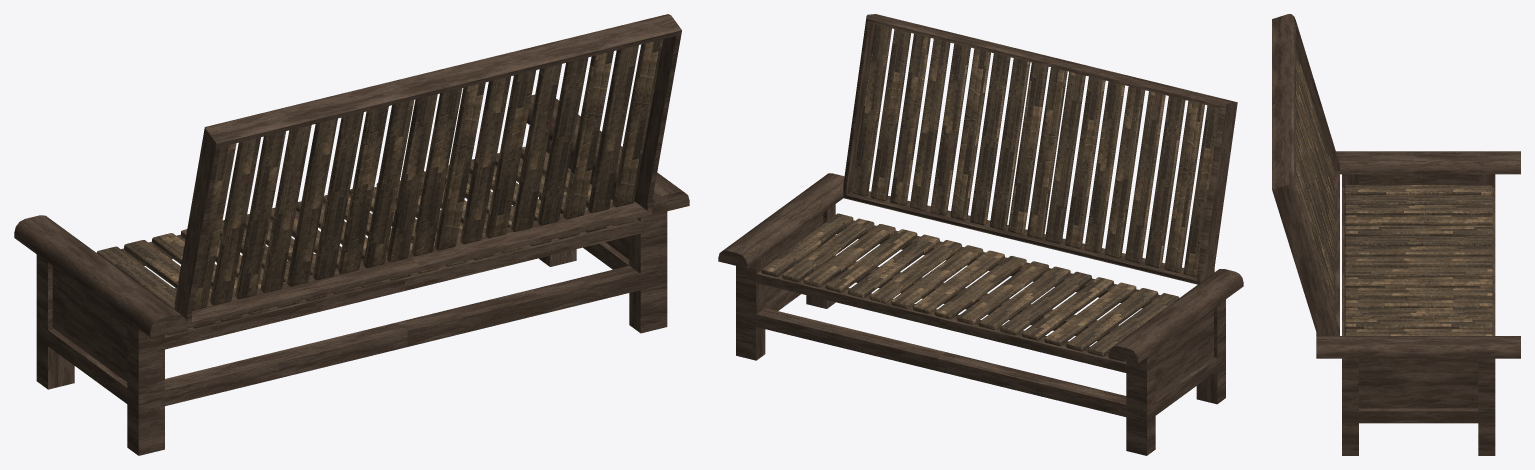
Rendered from bench_wood.glb.
3 renders of one model, left to right at view 1: azimuth 30°, elevation 25°; view 2: azimuth 150°, elevation 25°; view 3: azimuth 270°, elevation 25°, orthographic. The views are drawn at different scales.
Visible parts, largest first — view 1: Wooden_Chair_Wooden_Chair_Uv_map_0; view 2: Wooden_Chair_Wooden_Chair_Uv_map_0; view 3: Wooden_Chair_Wooden_Chair_Uv_map_0.
Part boxes in pixels (x1,y1,x2,y2): Wooden_Chair_Wooden_Chair_Uv_map_0: [14, 14, 689, 455]; Wooden_Chair_Wooden_Chair_Uv_map_0: [718, 14, 1243, 455]; Wooden_Chair_Wooden_Chair_Uv_map_0: [1272, 14, 1520, 455].
Bounding box in the file's own units: 1.39 × 0.8539 × 0.741.
1 material, 1 textured.
